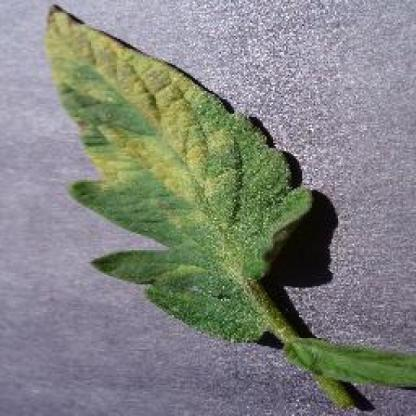Tomato_Leaf_Mold: (42, 6, 314, 344)
